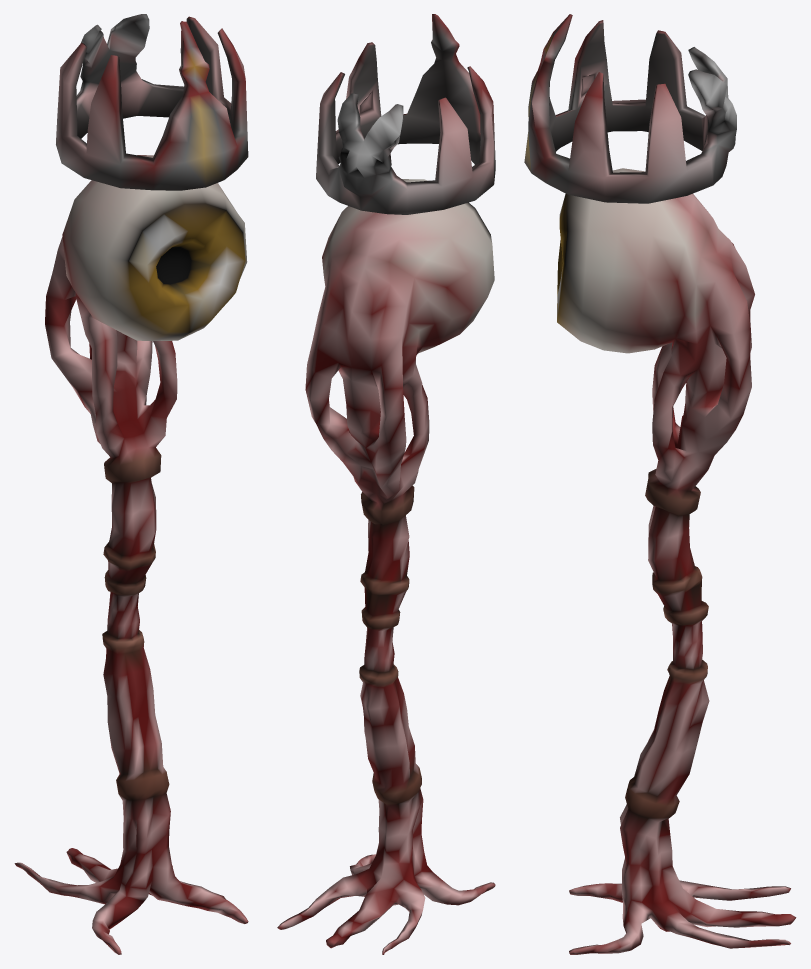
3 views of the same model, side by side, from view 1: azimuth 30°, elevation 25°; view 2: azimuth 150°, elevation 25°; view 3: azimuth 270°, elevation 25° (orthographic). The views are drawn at different scales.
Parts seen in each view (by area): view 1: Weaponretopo1_SeamsColor; view 2: Weaponretopo1_SeamsColor; view 3: Weaponretopo1_SeamsColor.
Boxes of the visible parts, box(x1,y1,x2,y2) form: Weaponretopo1_SeamsColor: box(14, 14, 248, 954); Weaponretopo1_SeamsColor: box(277, 14, 495, 954); Weaponretopo1_SeamsColor: box(524, 14, 796, 954).
Bounding box in the file's own units: 0.9034 × 4.83 × 1.3.
